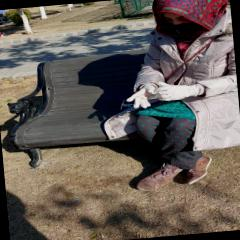gloved: (153, 80, 195, 102), (128, 86, 158, 110)
